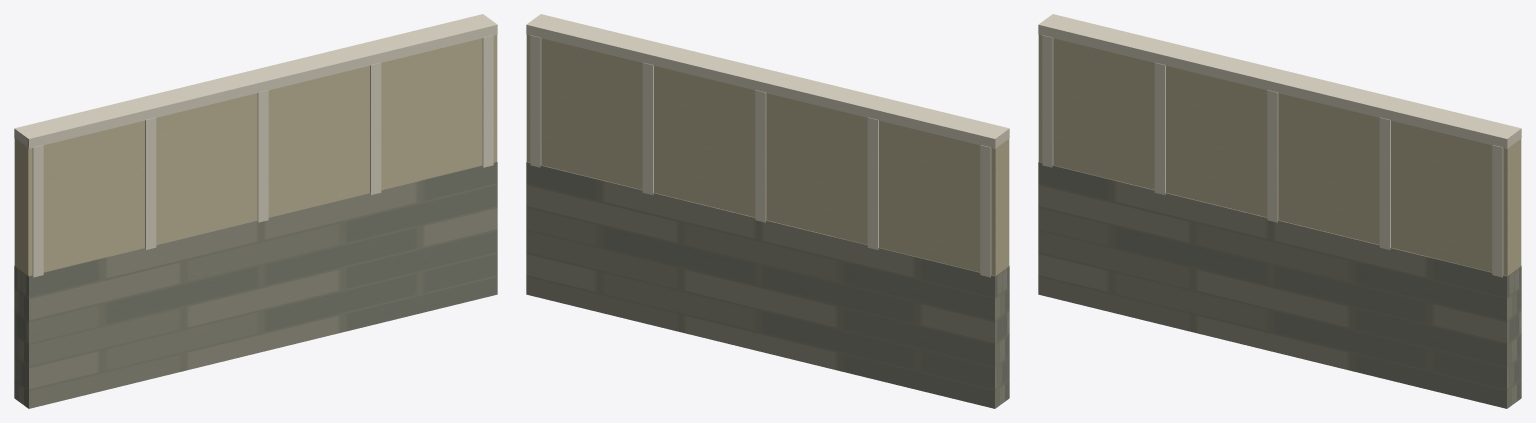
The model's file is SM_QD_School_BoundaryWall.fbx.
The picture shows the model from 3 angles, left to right: view 1: azimuth 30°, elevation 25°; view 2: azimuth 150°, elevation 25°; view 3: azimuth 330°, elevation 25°; orthographic projection.
Parts seen in each view (by area): view 1: SM_QD_School_BoundaryWall; view 2: SM_QD_School_BoundaryWall; view 3: SM_QD_School_BoundaryWall.
Boxes of the visible parts, <box> form: SM_QD_School_BoundaryWall: <box>14,14,497,408</box>; SM_QD_School_BoundaryWall: <box>526,14,1009,408</box>; SM_QD_School_BoundaryWall: <box>1038,14,1521,408</box>.
Bounding box in the file's own units: 10 × 0.56 × 5.5.
Materials: 1 (1 with a texture image).
